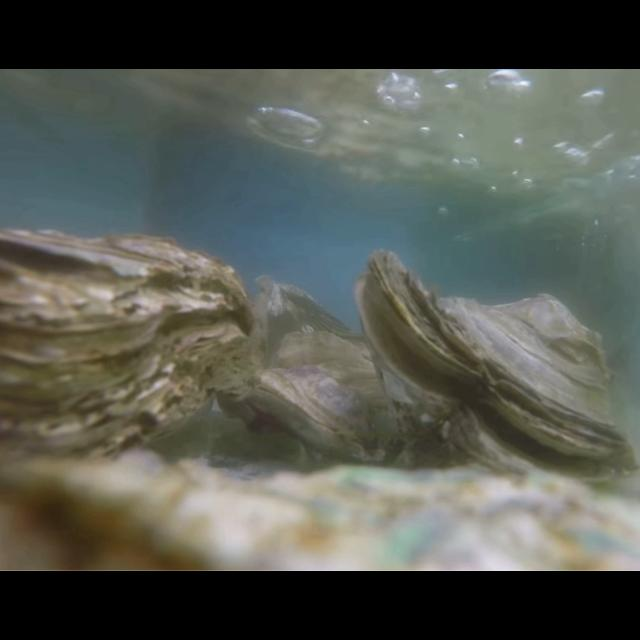Oyster-Closed: (0, 451, 640, 571), (0, 226, 256, 481), (258, 332, 410, 468), (254, 270, 370, 360)
Oyster-Open: (354, 251, 640, 494)
